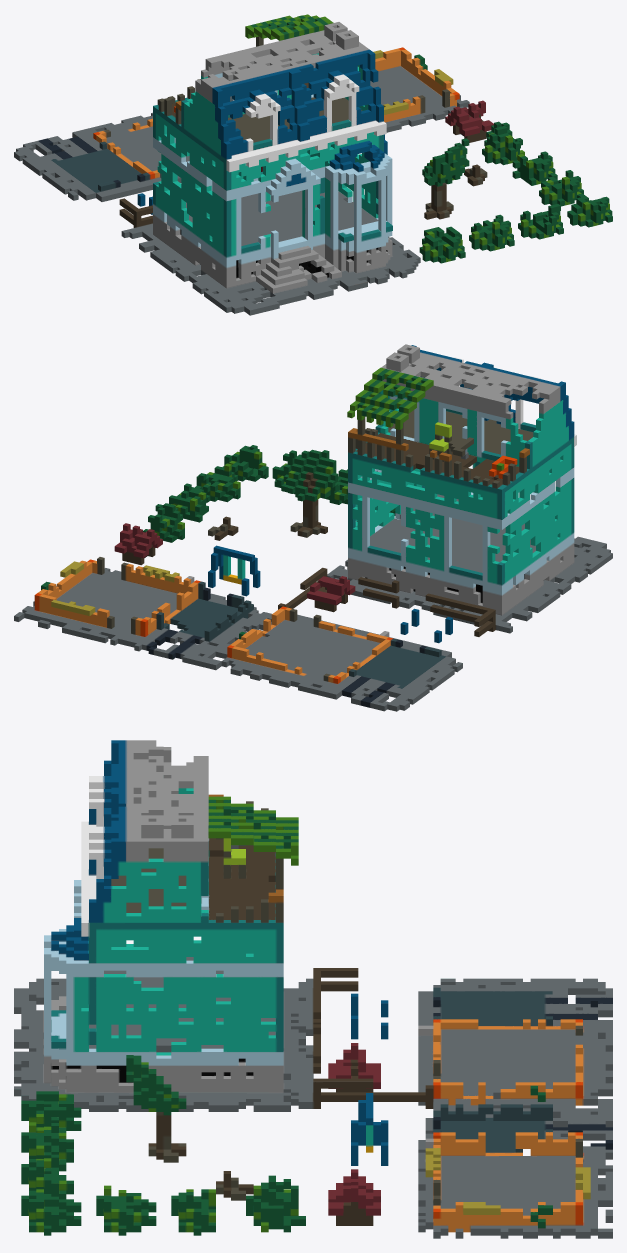
Rendered from building_small_5_destroyed.glb.
The picture shows the model from 3 angles, top to bottom: view 1: azimuth 30°, elevation 25°; view 2: azimuth 150°, elevation 25°; view 3: azimuth 270°, elevation 25°; orthographic projection. The views are drawn at different scales.
Visible parts, largest first — view 1: building_small_5_destroyed; view 2: building_small_5_destroyed; view 3: building_small_5_destroyed.
Boxes of the visible parts, x1=… form: building_small_5_destroyed: x1=14, y1=14, x2=612, y2=315; building_small_5_destroyed: x1=14, y1=344, x2=612, y2=711; building_small_5_destroyed: x1=14, y1=740, x2=612, y2=1238.
Bounding box in the file's own units: 8 × 4 × 8.
1 material, 1 textured.
